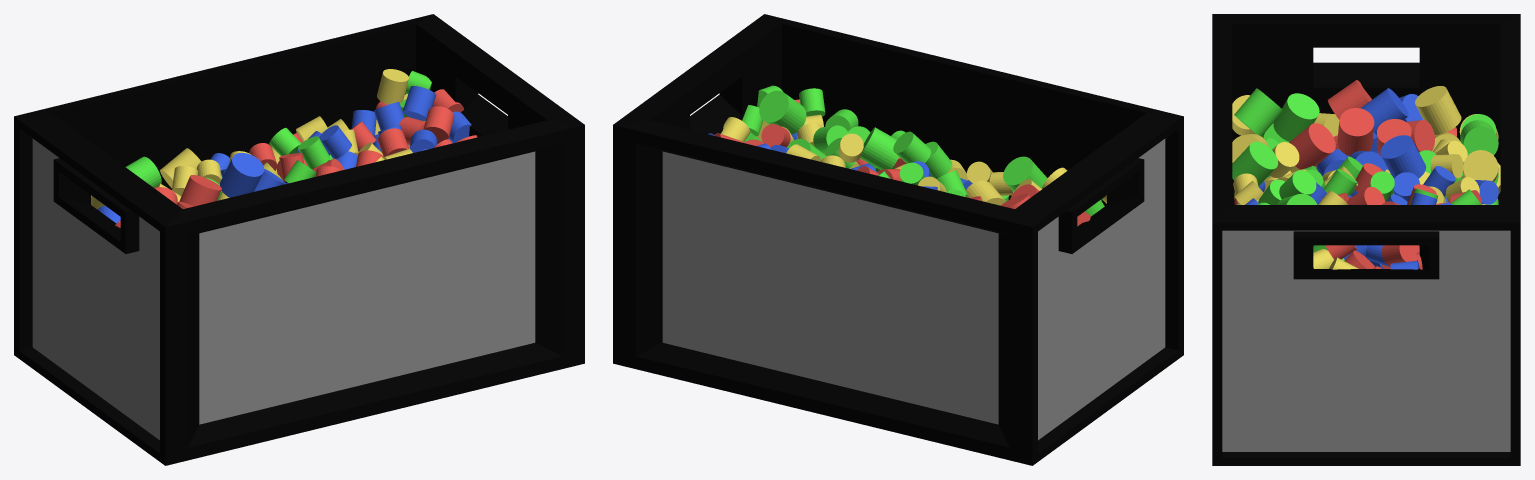
The model's file is RM_Plastic.fbx.
3 views of the same model, side by side, from view 1: azimuth 30°, elevation 25°; view 2: azimuth 150°, elevation 25°; view 3: azimuth 270°, elevation 25° (orthographic).
Visible parts, largest first — view 1: Plastic; view 2: Plastic; view 3: Plastic.
Boxes of the visible parts, box(x1,y1,x2,y2) form: Plastic: box(14, 14, 584, 465); Plastic: box(613, 14, 1183, 465); Plastic: box(1212, 14, 1520, 465).
Size of the model in its own units: 0.9577 by 0.5987 by 0.5297.
